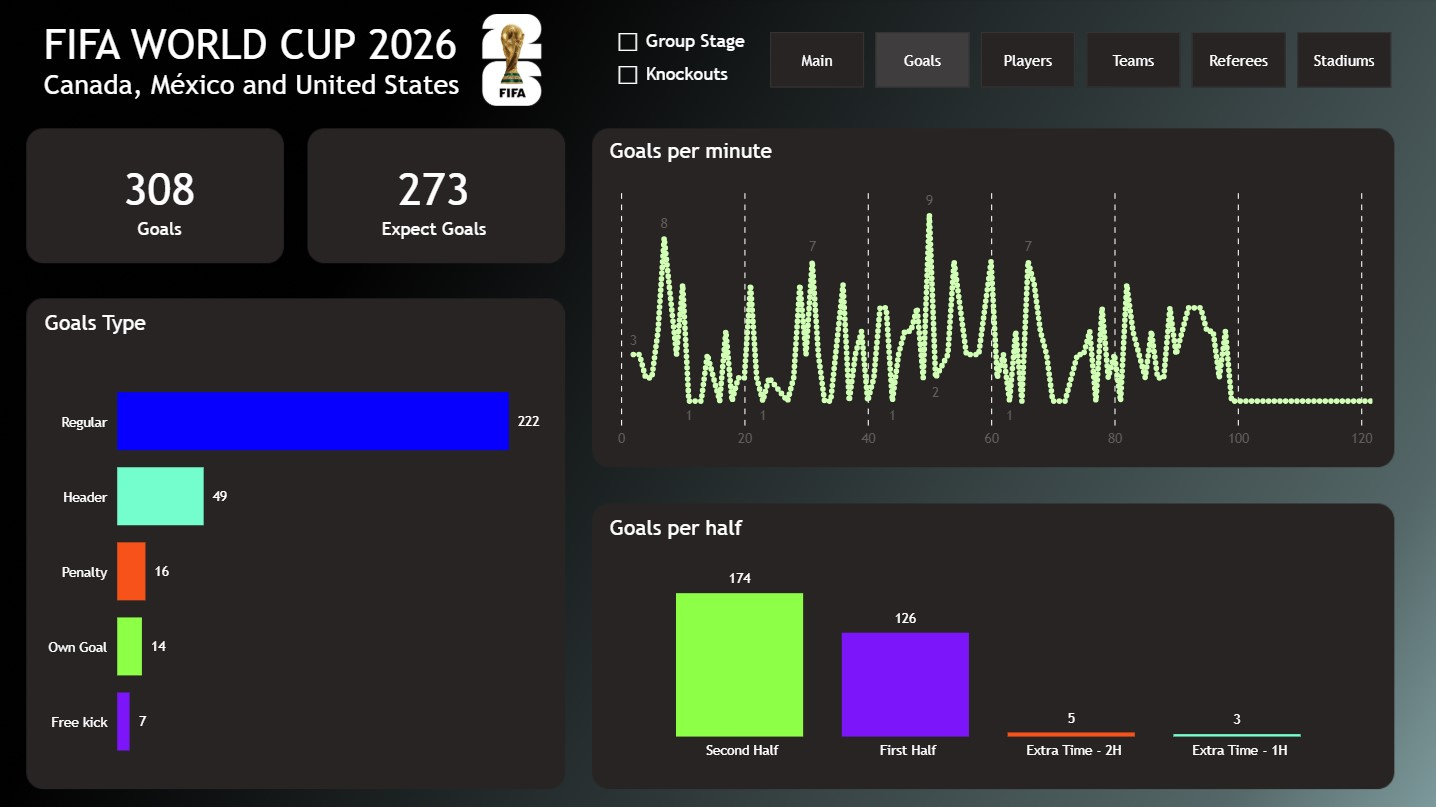

The page's visual inventory and layout, read from the dashboard file:
{"tool":"powerbi","page":{"name":"Goals","canvas":[1280,720],"ordinal":1},"visuals":[{"type":"textbox","box":[37.1,14.3,391,97],"z":0},{"type":"card","fields":{"Values":["Medidas.goals"]},"box":[37.9,122.6,212.6,106.7],"z":1000},{"type":"card","fields":{"Values":["Medidas.Expect Goals"]},"box":[278.8,122.6,215.2,106.7],"z":2000},{"type":"barChart","title":"Goals Type","fields":{"Category":["goals.goal_type"],"Y":["Medidas.Goals"]},"box":[37.5,275.3,463,421.9],"z":3000},{"type":"columnChart","title":"Goals per half","fields":{"Category":["goals.half"],"Y":["Medidas.Goals"]},"box":[536.3,455.9,682.9,223.5],"z":4000},{"type":"lineChart","title":"Goals per minute","fields":{"Category":["goals.minute"],"Y":["Medidas.Goals"]},"box":[536.3,123.4,682.9,280.7],"z":5000},{"type":"slicer","fields":{"Values":["matches.match_type"]},"box":[536.7,19,146.7,70.8],"z":6000},{"type":"image","box":[373.9,14.1,162.3,80.6],"z":7000},{"type":"pageNavigator","box":[682.4,29.9,550.7,49.9],"z":8000}]}

Visuals, with their boxes in screenshot pixels (x1, y1, x2, y2), scaled from the page's 1280x720 canvas onto the 1436x807 screenshot:
textbox: Rect(42, 16, 480, 125)
card - Medidas.goals: Rect(43, 137, 281, 257)
card - Medidas.Expect Goals: Rect(313, 137, 554, 257)
"Goals Type" barChart: Rect(42, 309, 561, 781)
"Goals per half" columnChart: Rect(602, 511, 1368, 761)
"Goals per minute" lineChart: Rect(602, 138, 1368, 453)
slicer - matches.match_type: Rect(602, 21, 767, 101)
image: Rect(419, 16, 602, 106)
pageNavigator: Rect(766, 34, 1383, 89)
